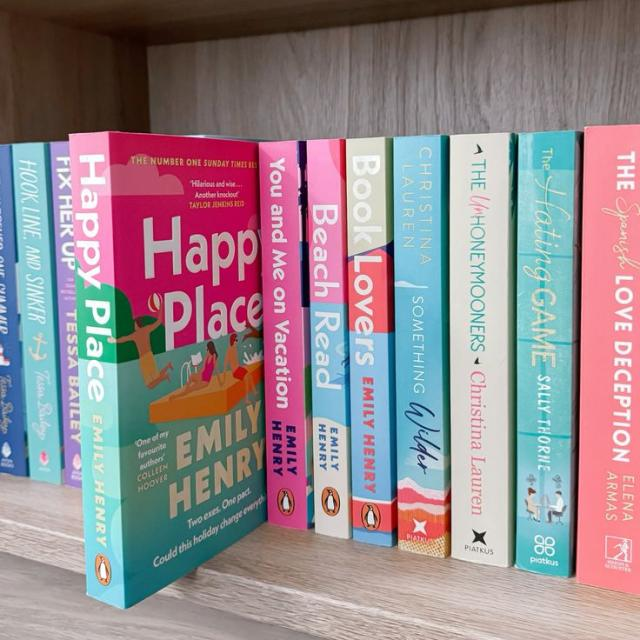book: (576, 125, 639, 594), (514, 131, 580, 576), (450, 133, 514, 567), (68, 133, 125, 611), (393, 135, 450, 557), (346, 137, 396, 545), (260, 141, 309, 529), (12, 143, 63, 483), (307, 140, 350, 538), (50, 142, 80, 486)
